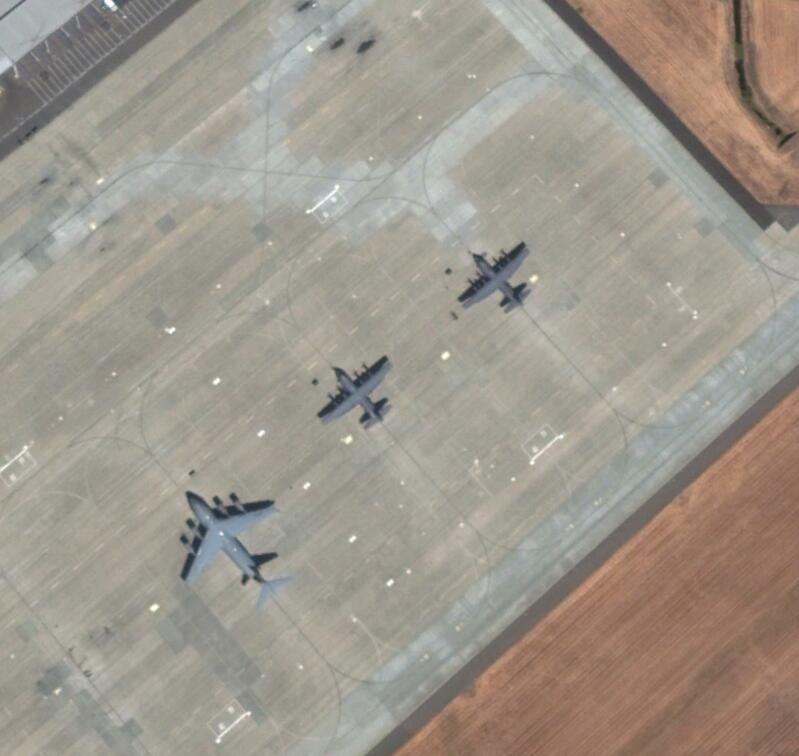A2: (317, 361, 398, 430), (459, 244, 533, 315)
A3: (178, 490, 291, 602)
